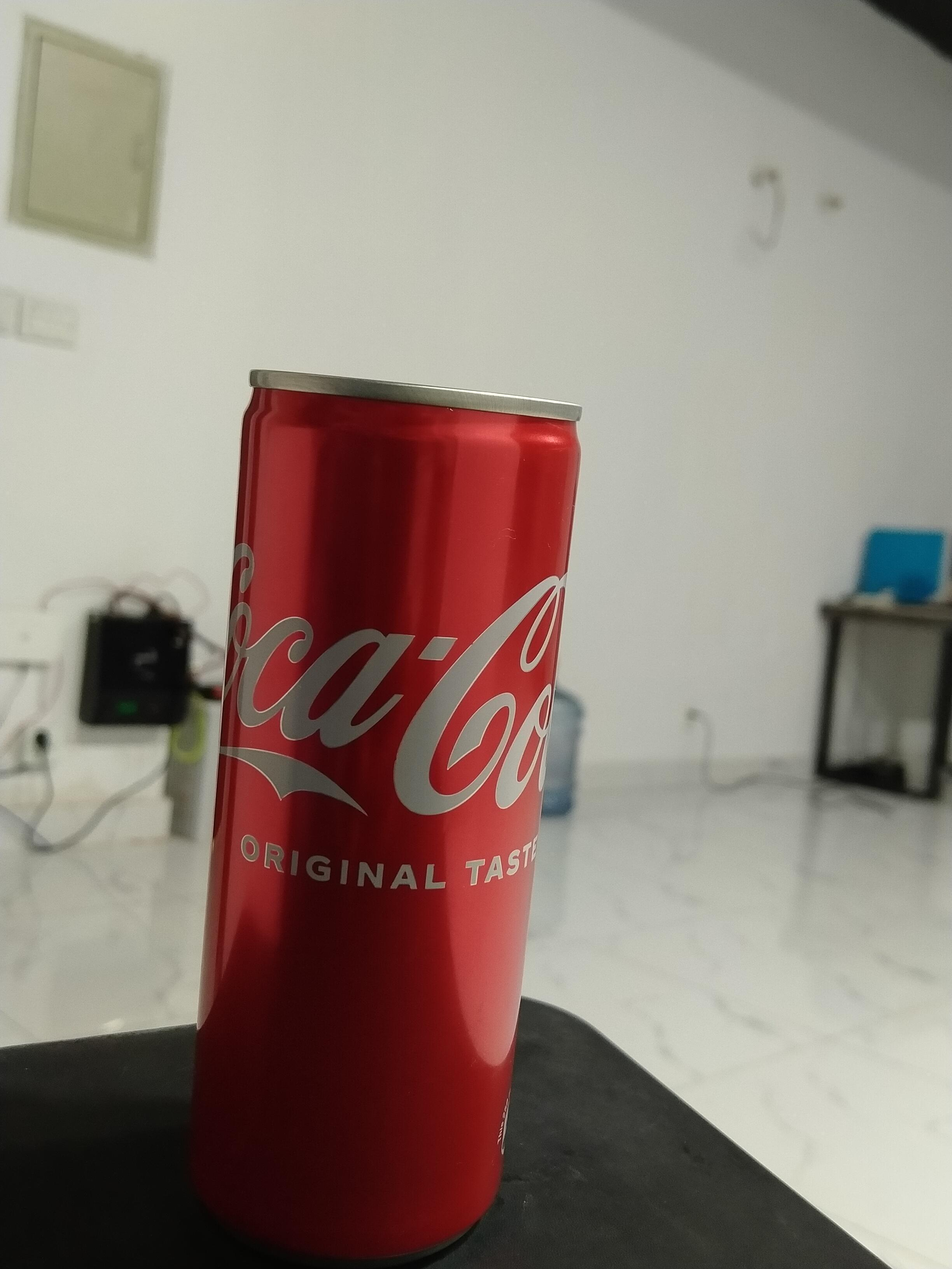tin can: (184, 364, 587, 1269)
